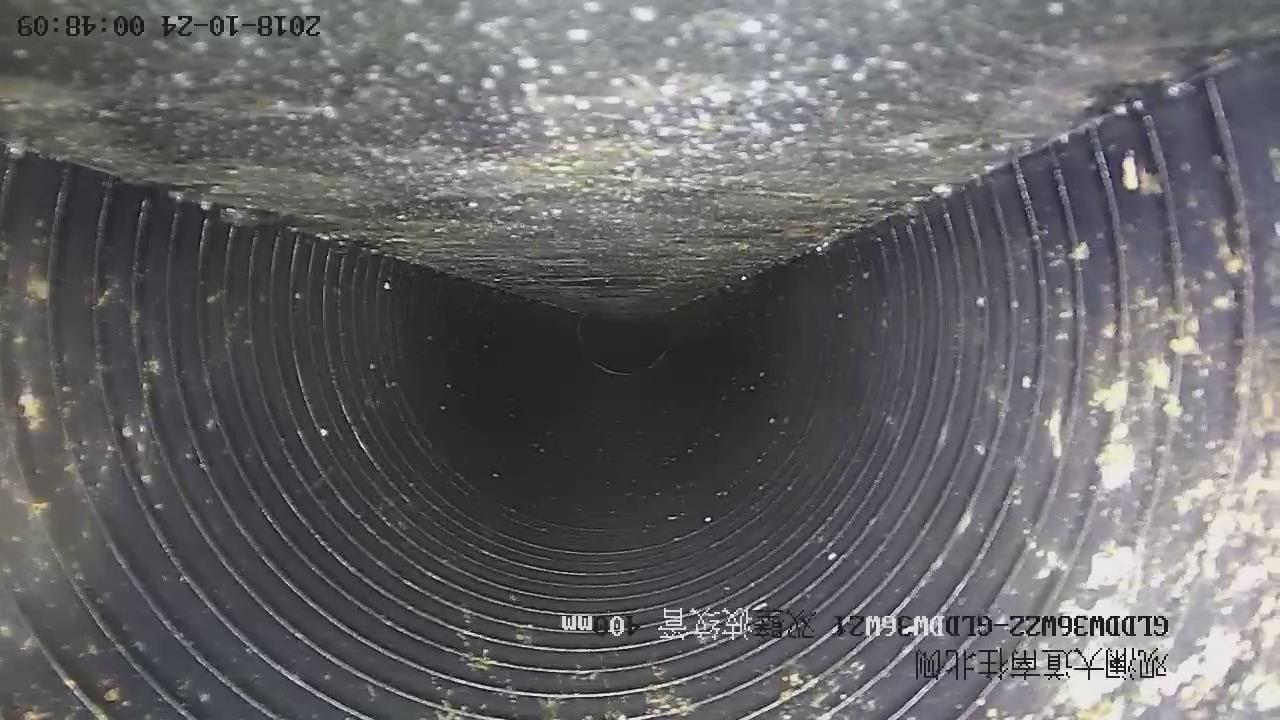FZ: (1, 1, 1280, 319)
